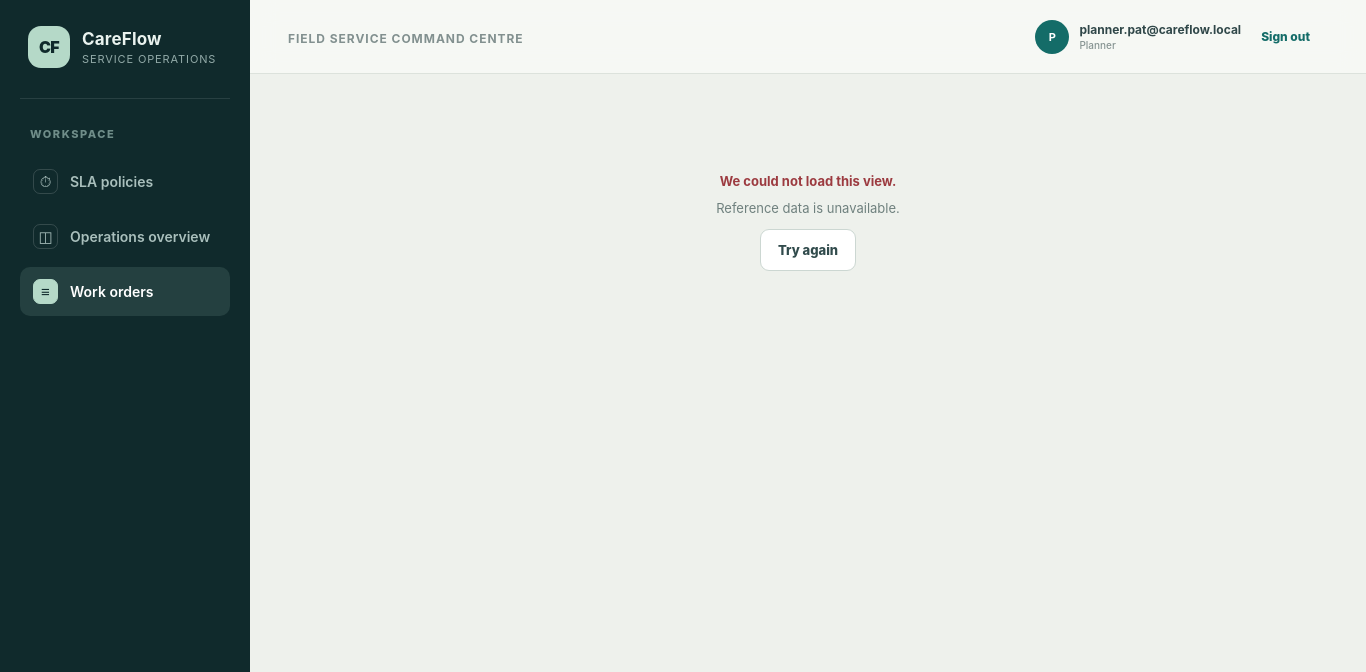
Scenario: Create work order (MSW) › shows the error state when sites cannot be loaded, then recovers on retry
Expected: the text "Reference data is unavailable." is shown, [716,199,900,219]
Click the button "Try again" at x=808, y=250, box [760,229,856,271]
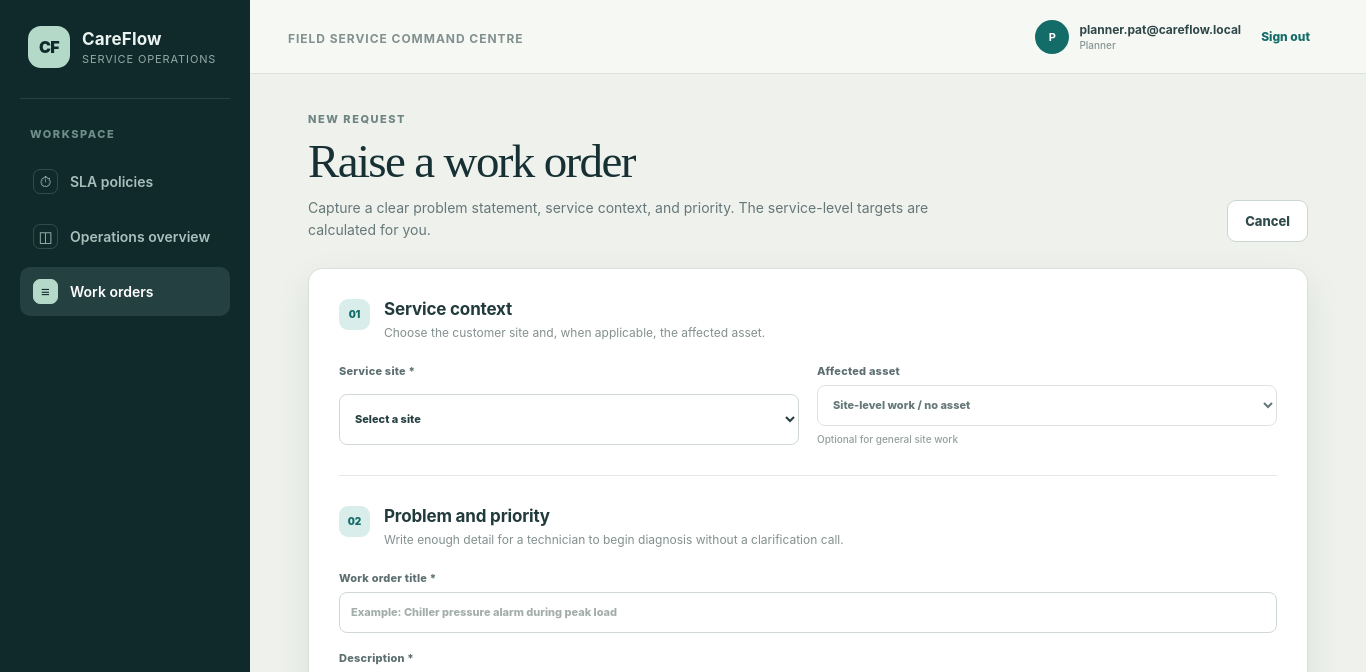
Expected: the dropdown labelled "Service site *" is shown, [339,394,799,444]
